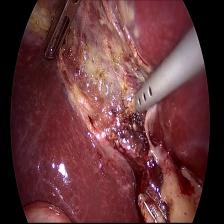Grasper: (32, 0, 88, 63)
Irrigator: (132, 70, 164, 120)
